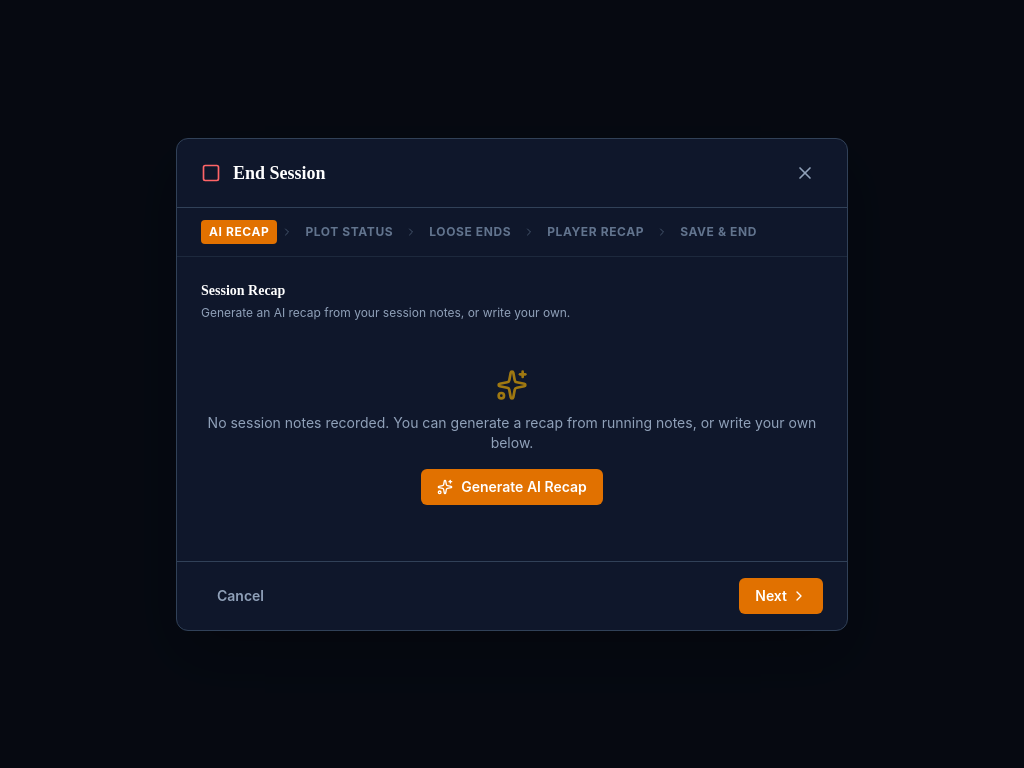
Test: SessionEndWizard — clipboard failures must not report success (#81) › shows "Copied!" only after a successful clipboard write resolves
Click the button "Player Recap" at (596,232), box 539,220 -> 652,244
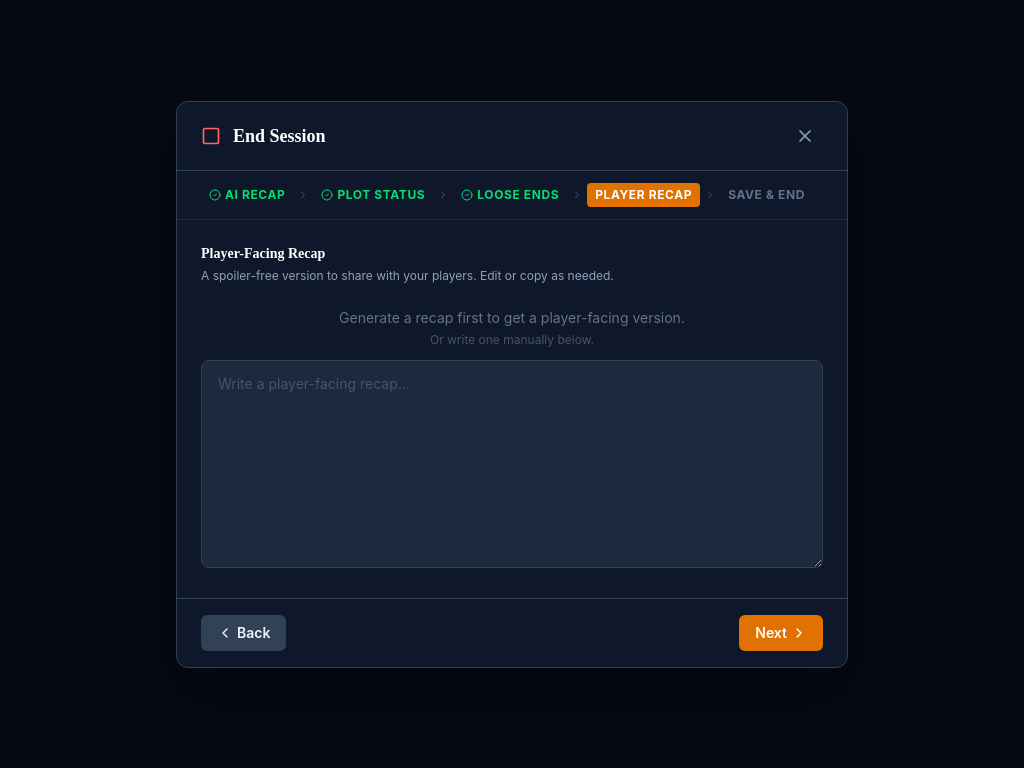
Type "Spoiler-free recap." into the text box with placeholder "Write a player-facing recap..." at (512,464), box 201,360 -> 823,568
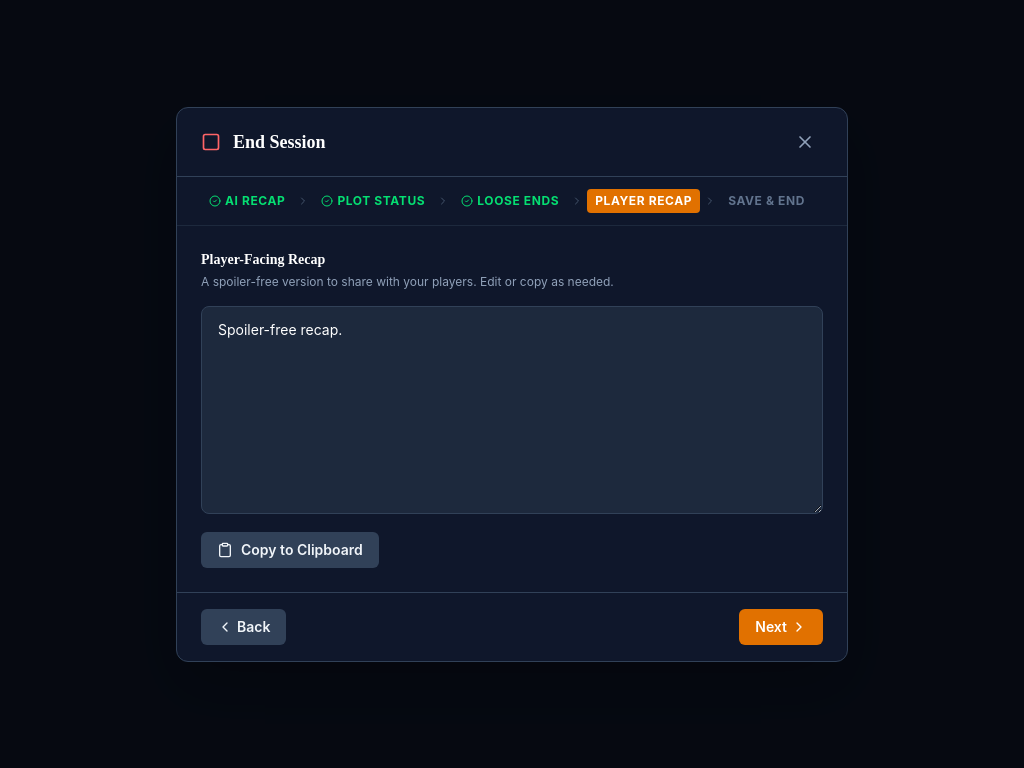
Click the button "Copy to Clipboard" at (290,550), box 201,532 -> 379,568
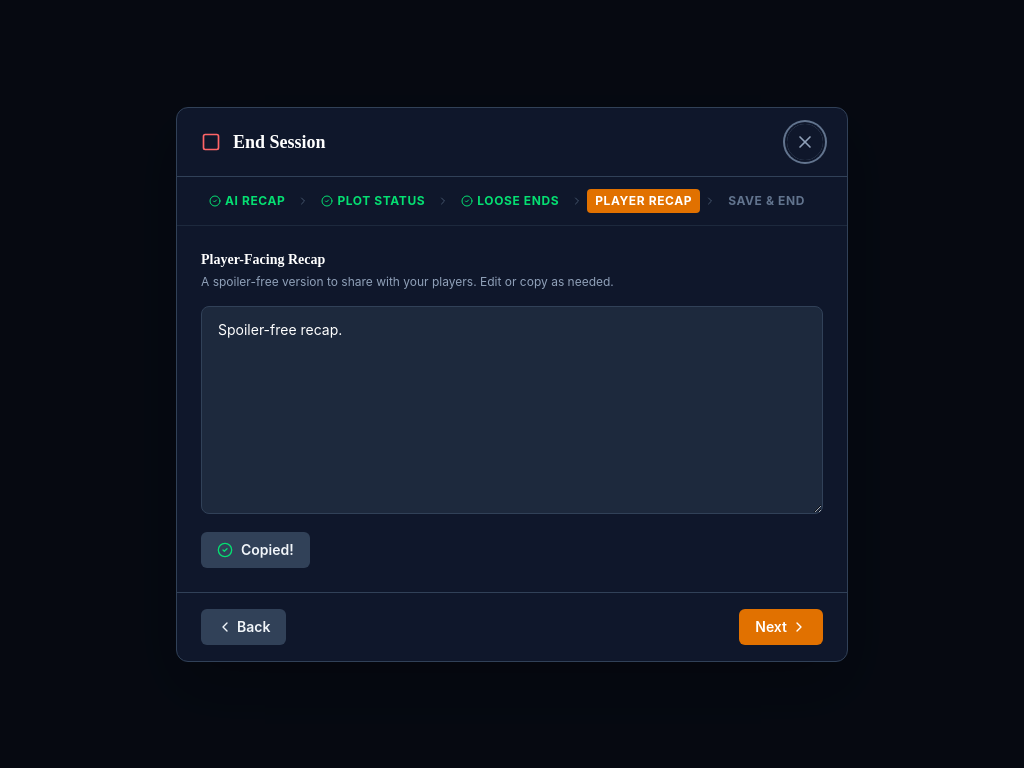
Result: the button "Copied!" is shown at 201,532 -> 310,568
